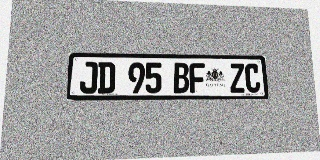5: (145, 62, 162, 93)
9: (128, 62, 145, 93)
B: (173, 63, 189, 93)
C: (244, 64, 261, 93)
D: (97, 62, 115, 93)
F: (189, 63, 205, 93)
J: (79, 62, 98, 94)
Z: (229, 63, 245, 93)
